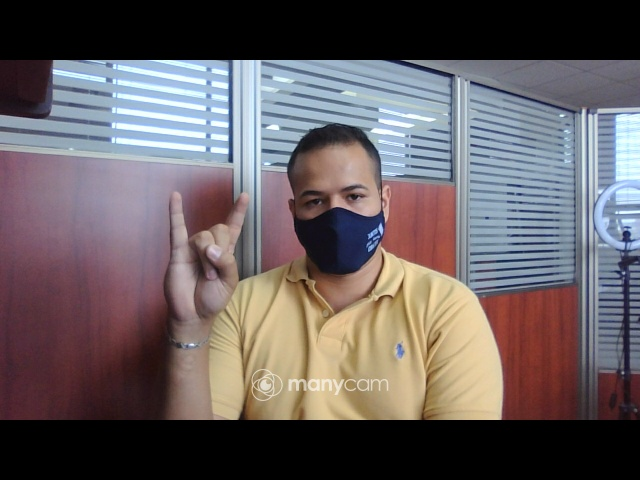I Love You: (160, 186, 252, 332)
